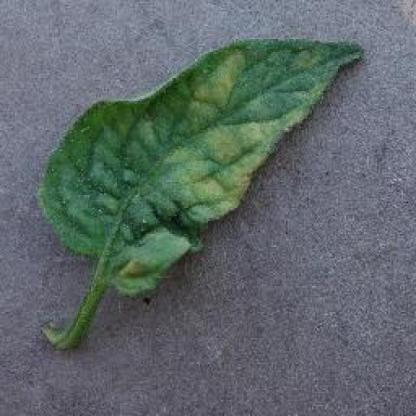Tomato_Leaf_Mold: (40, 40, 364, 298)
